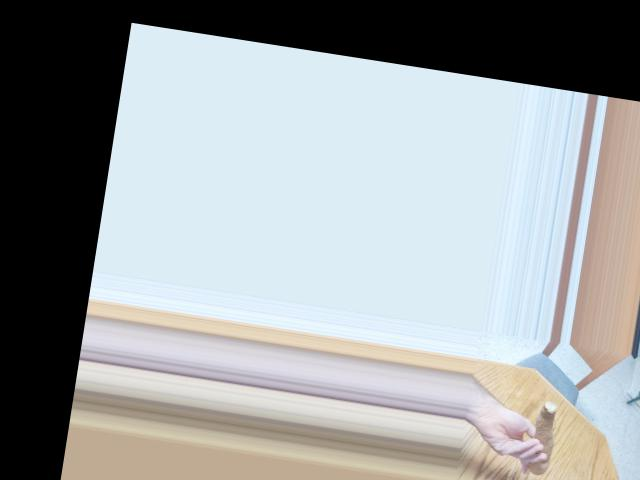sweet_potato: (524, 404, 565, 472)
